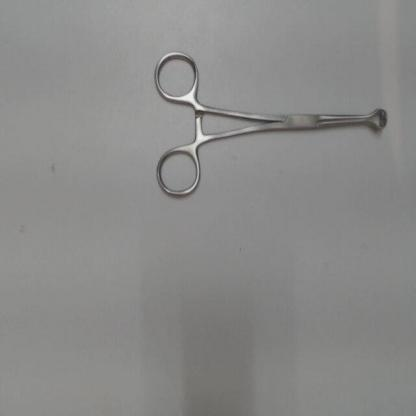Babcock Tissue Forceps: (150, 43, 388, 201)
